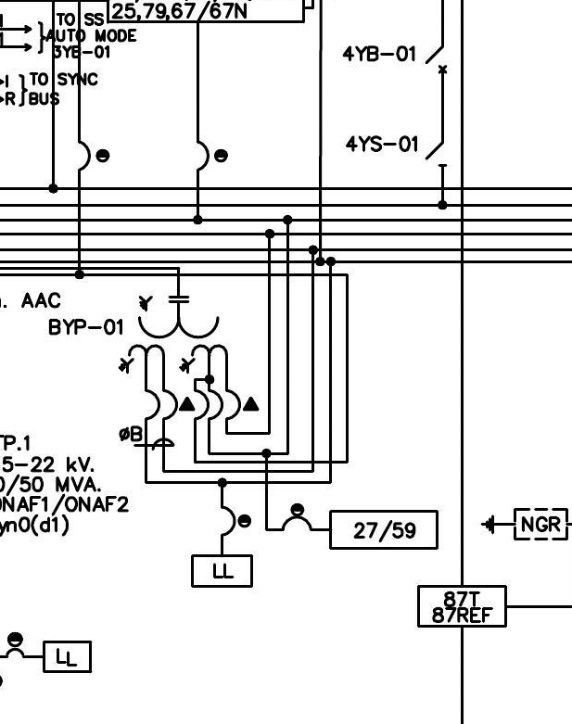115_breaker: (425, 46, 447, 74)
115_cvt_3p: (117, 295, 229, 375)
115_ds: (425, 141, 448, 167)
LL: (191, 554, 253, 588), (42, 641, 92, 674)
NGR_future: (480, 507, 569, 541)
